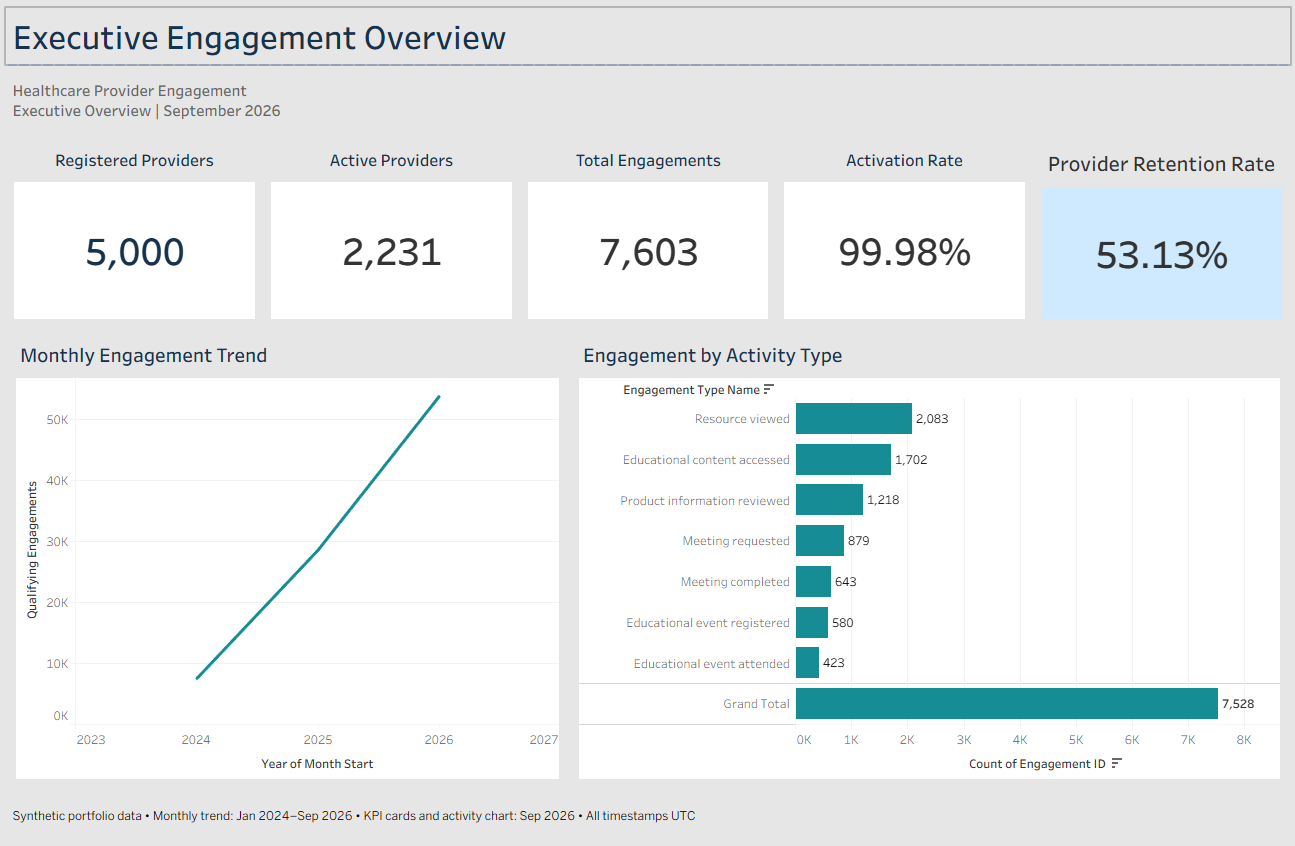

The page's visual inventory and layout, read from the dashboard file:
{"tool":"tableau","page":{"name":"Executive Engagement Overview","canvas":[1300,850],"ordinal":0},"visuals":[{"type":"title","box":[8,8,1284,56]},{"type":"text","box":[8,64,1284,73]},{"type":"worksheet","title":"Registered Providers","mark":"Automatic","box":[8,137,256.8,190]},{"type":"worksheet","title":"Active Providers","mark":"Automatic","box":[264.8,137,256.8,190]},{"type":"worksheet","title":"Total Engagements","mark":"Automatic","box":[521.6,137,256.8,190]},{"type":"worksheet","title":"Activation Rate","mark":"Automatic","box":[778.4,137,256.8,190]},{"type":"worksheet","title":"Provider Retention Rate","mark":"Automatic","box":[1035.2,137,256.8,190]},{"type":"worksheet","title":"Monthly Engagement Trend","mark":"Line","rows":["Engagements"],"cols":["MonthStart"],"box":[8,327,563.5,462]},{"type":"worksheet","title":"Engagement by Activity Type","mark":"Bar","rows":["EngagementTypeName"],"cols":["EngagementID"],"box":[571.5,327,720.5,462]},{"type":"text","box":[8,789,1284,53]}]}

Visuals, with their boxes in screenshot pixels (x1, y1, x2, y2), scaled from the page's 1300x850 canvas onto the 1295x846 screenshot:
title: 8 8 1287 64
text: 8 64 1287 136
"Registered Providers" worksheet: 8 136 264 325
"Active Providers" worksheet: 264 136 520 325
"Total Engagements" worksheet: 520 136 775 325
"Activation Rate" worksheet: 775 136 1031 325
"Provider Retention Rate" worksheet: 1031 136 1287 325
"Monthly Engagement Trend" worksheet (Line marks): 8 325 569 785
"Engagement by Activity Type" worksheet (Bar marks): 569 325 1287 785
text: 8 785 1287 838
